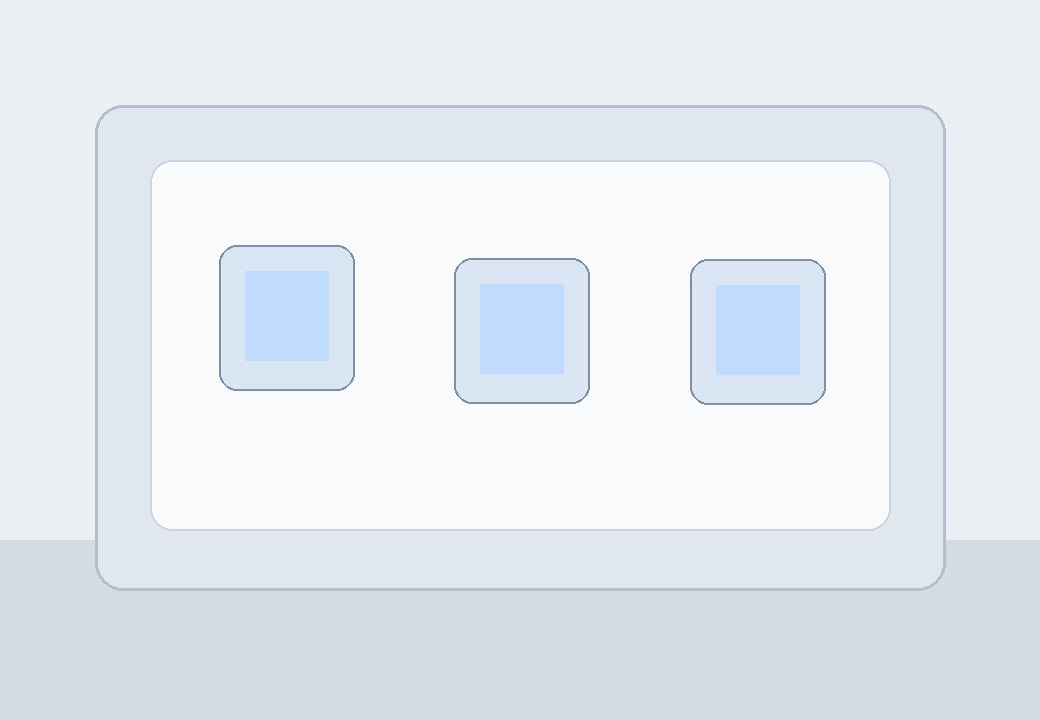dent: (500, 310, 585, 366)
ok_region: (245, 260, 375, 390)
scratch: (320, 285, 430, 330)
stain: (660, 245, 755, 307)
